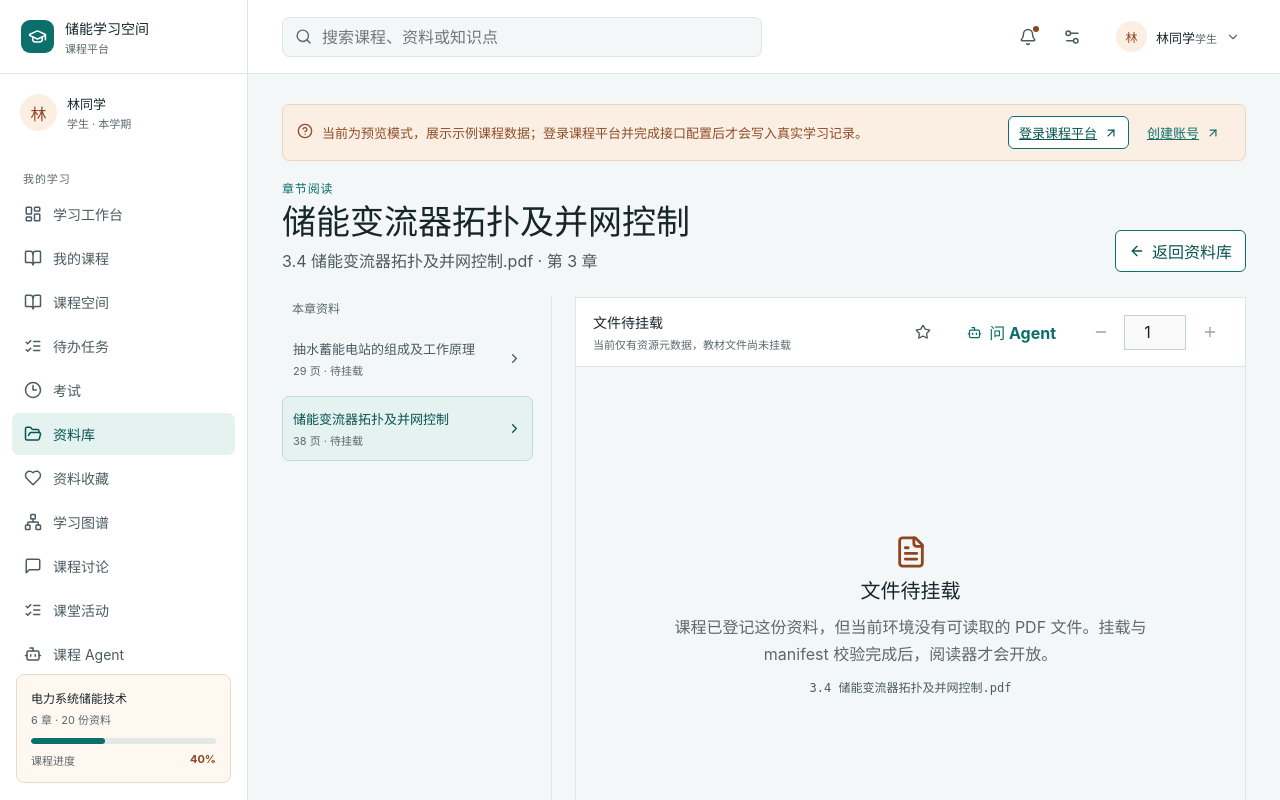
Test case: learning platform component › component reader exposes an explicit pending-mount state instead of fake PDF content
Expected: the text "课程已登记这份资料，但当前环境没有可读取的 PDF 文件。挂载与 manifest 校验完成后，阅读器才会开放。" is shown, [660,614,1160,668]
Click the button named "收藏资料" at point(923, 332), box [904,314,941,351]
(page scrolled)
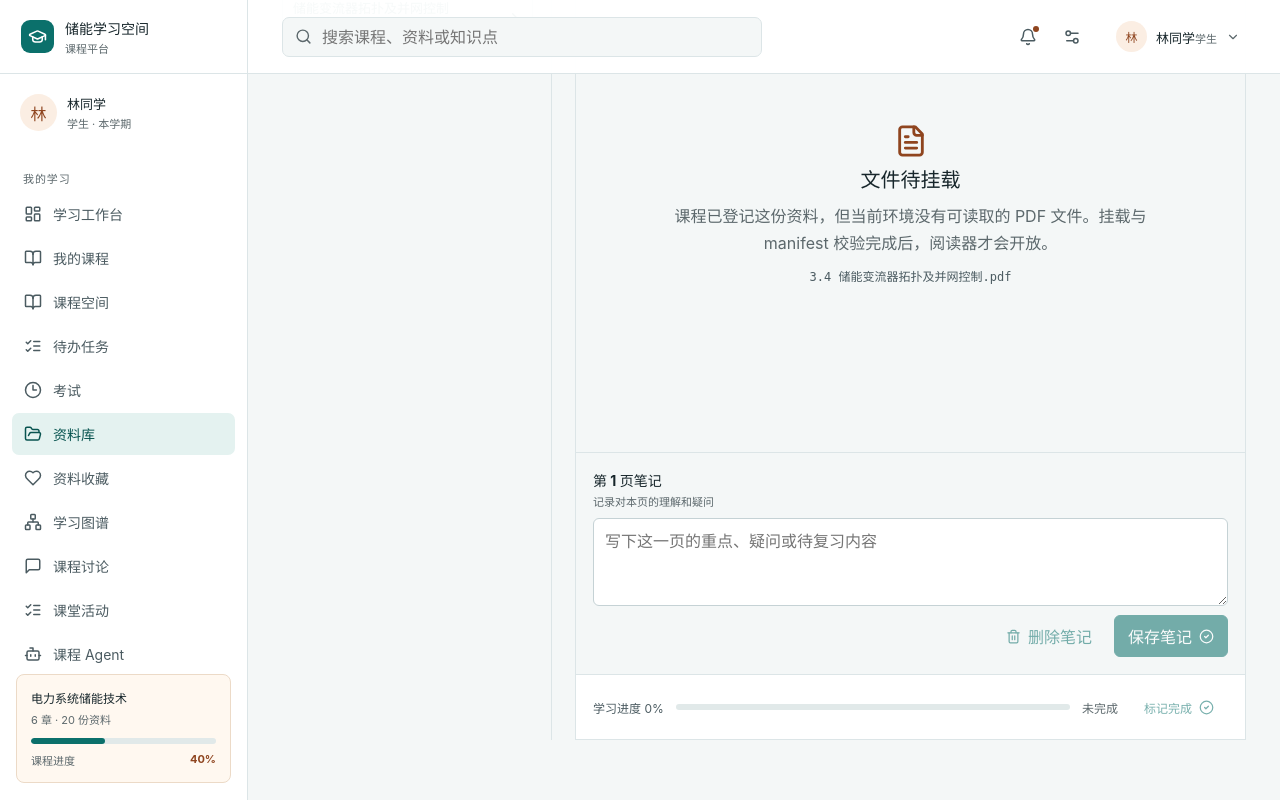
Type "待复习：并网控制" into the text box named "第 1 页笔记" at point(910, 562), box [593,518,1228,606]
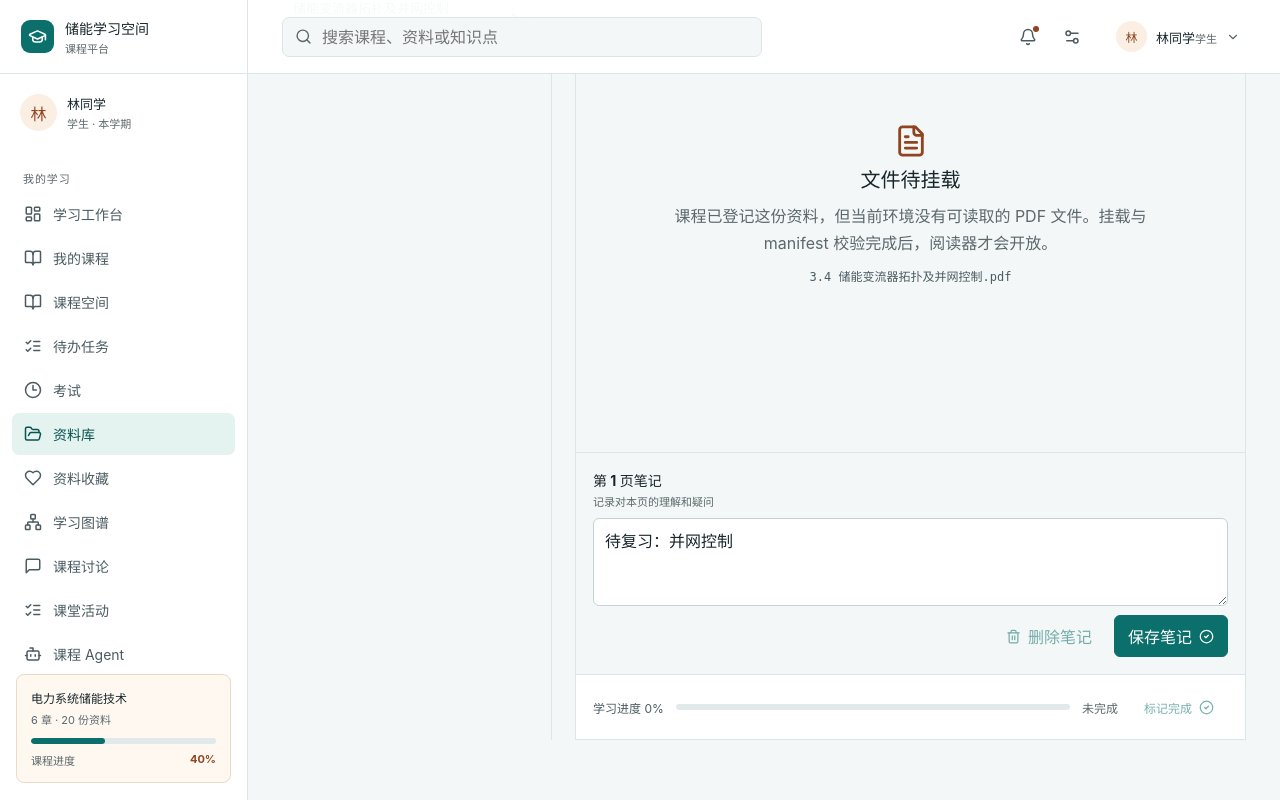
Click the button "保存笔记" at point(1171, 636), box [1114,615,1228,657]
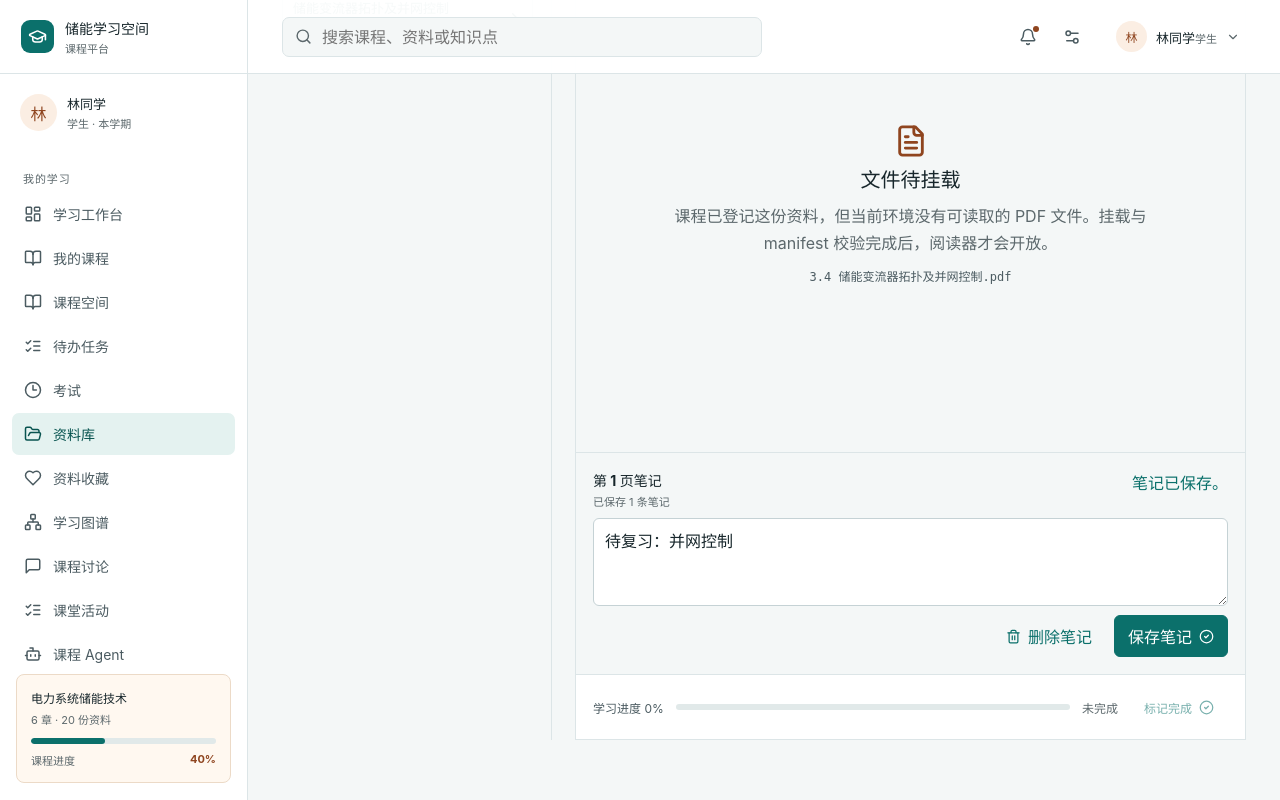
Now the text "笔记已保存。" is shown, box [1132,470,1228,494]
